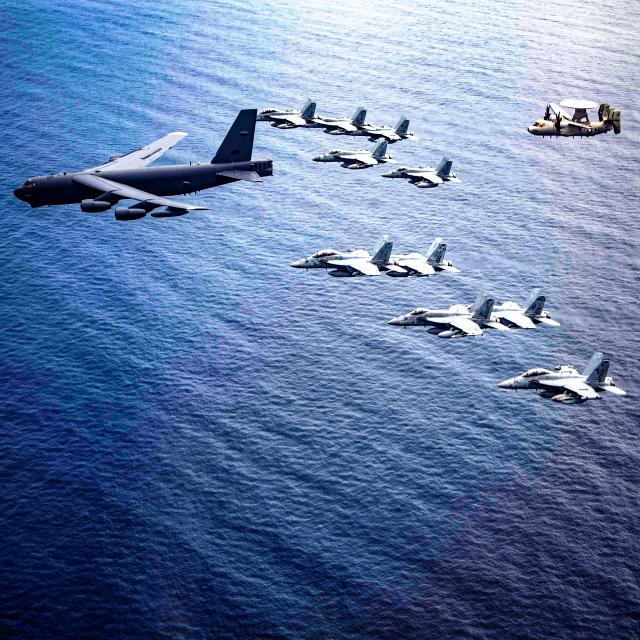Aircraft: (13, 107, 273, 220), (285, 223, 392, 290), (497, 350, 626, 404), (387, 286, 497, 344), (368, 230, 460, 284), (474, 280, 560, 335), (527, 98, 621, 139), (381, 155, 462, 188), (312, 138, 397, 169), (352, 111, 422, 148), (310, 102, 378, 134), (256, 98, 316, 129)
